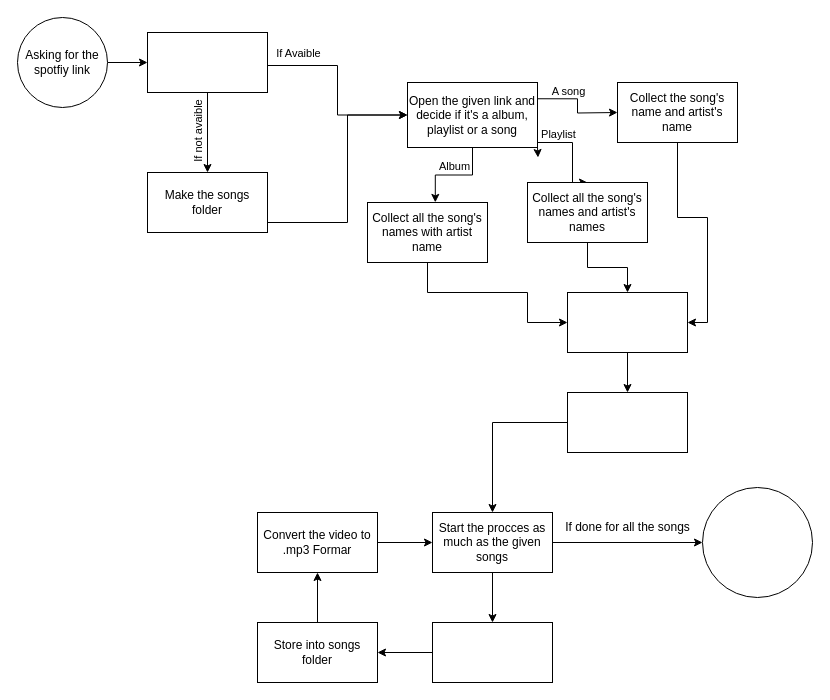
The diagram is 830 pixels wide and 700 high, and some of its shapes have lost their labels. Each missing label, with the centre of its shape:
Check for the songs folder: point 207,62
Collect each one video ids: point 627,422
Downloading the video ids video: point 492,652
Ending the Program with songs folder output: point 757,542
Searching the title and artist name in Youtube: point 627,322
